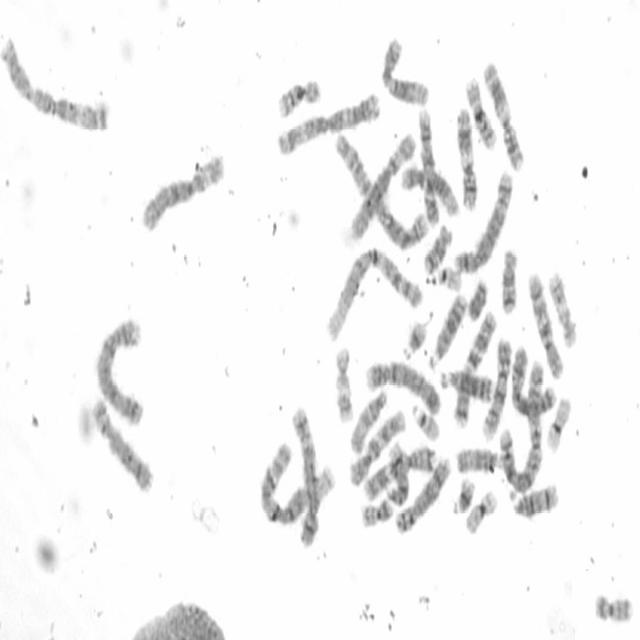A1: (323, 242, 424, 346), (256, 437, 336, 529)
A2: (333, 129, 428, 250), (496, 358, 548, 494)
A3: (0, 32, 112, 136), (274, 88, 381, 157)
B4: (96, 315, 145, 431), (363, 356, 442, 417)
B5: (453, 166, 514, 277), (290, 403, 320, 549)
C10: (346, 405, 407, 488), (525, 266, 565, 382)
C11: (480, 57, 524, 174), (454, 102, 478, 212)
C12: (378, 33, 430, 107), (399, 161, 461, 220)
C6: (348, 132, 418, 245), (138, 149, 228, 234)
C7: (451, 307, 498, 429), (361, 442, 438, 503)
C8: (89, 394, 154, 496), (393, 452, 451, 535)
C9: (480, 333, 512, 441), (416, 104, 440, 228)
D13: (426, 288, 468, 372), (438, 365, 493, 405)
D14: (507, 480, 560, 520), (384, 437, 409, 510)
D15: (348, 385, 388, 455), (456, 448, 506, 477)
E16: (463, 72, 498, 152), (274, 74, 322, 122)
E17: (547, 266, 578, 351), (331, 342, 354, 427)
E18: (421, 220, 452, 274), (498, 246, 519, 316)
F19: (543, 392, 573, 455), (462, 486, 498, 537)
F20: (592, 589, 634, 624), (358, 494, 394, 529)
G21: (400, 315, 428, 362), (450, 475, 477, 517)
G22: (409, 400, 441, 442), (431, 262, 462, 294)
X: (510, 344, 557, 416)
Y: (464, 274, 489, 322)
